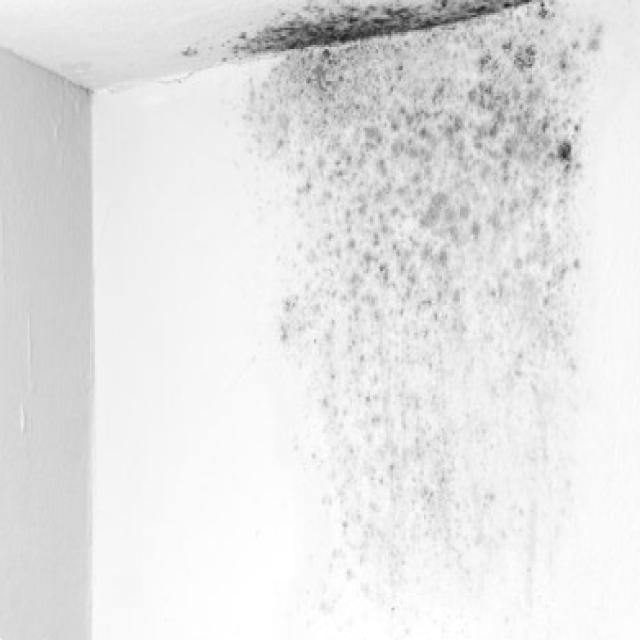stain marks: (266, 181, 584, 619), (183, 0, 608, 175)
